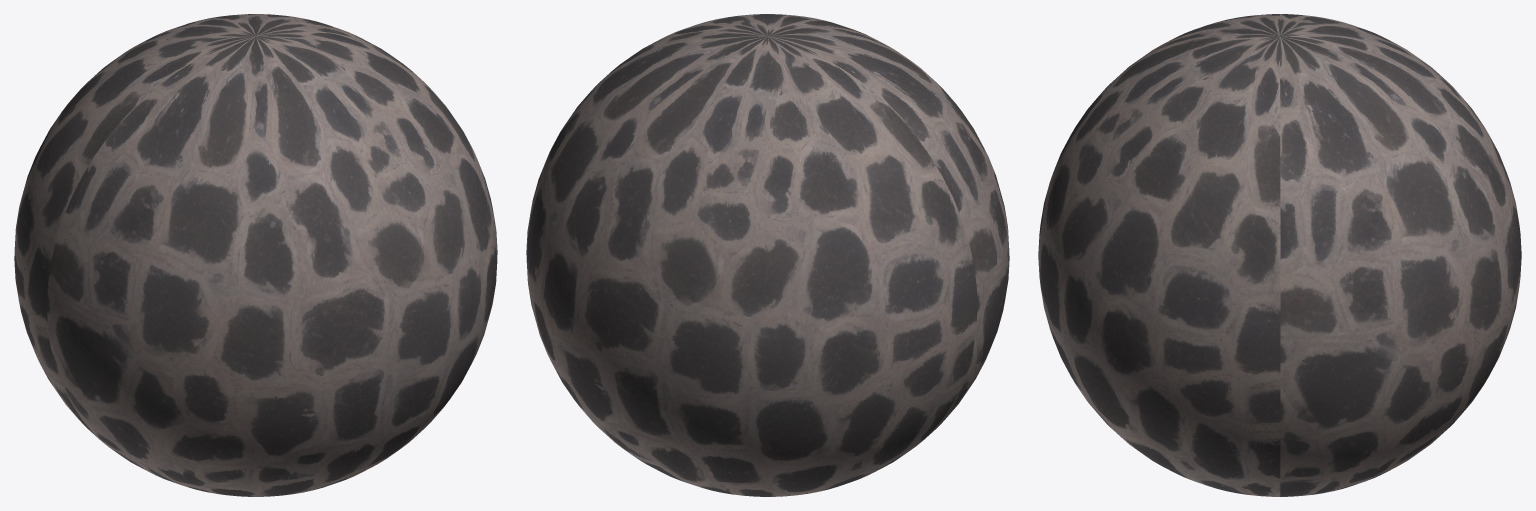
3 views of the same model, side by side, from view 1: azimuth 30°, elevation 25°; view 2: azimuth 150°, elevation 25°; view 3: azimuth 270°, elevation 25° (orthographic).
Visible parts, largest first — view 1: Sphere; view 2: Sphere; view 3: Sphere.
Part boxes in pixels (x1,y1,x2,y2): Sphere: (14, 14, 497, 496); Sphere: (526, 14, 1009, 496); Sphere: (1038, 14, 1521, 496).
Bounding box in the file's own units: 1.7 × 1.7 × 1.7.
1 material, 1 textured.
